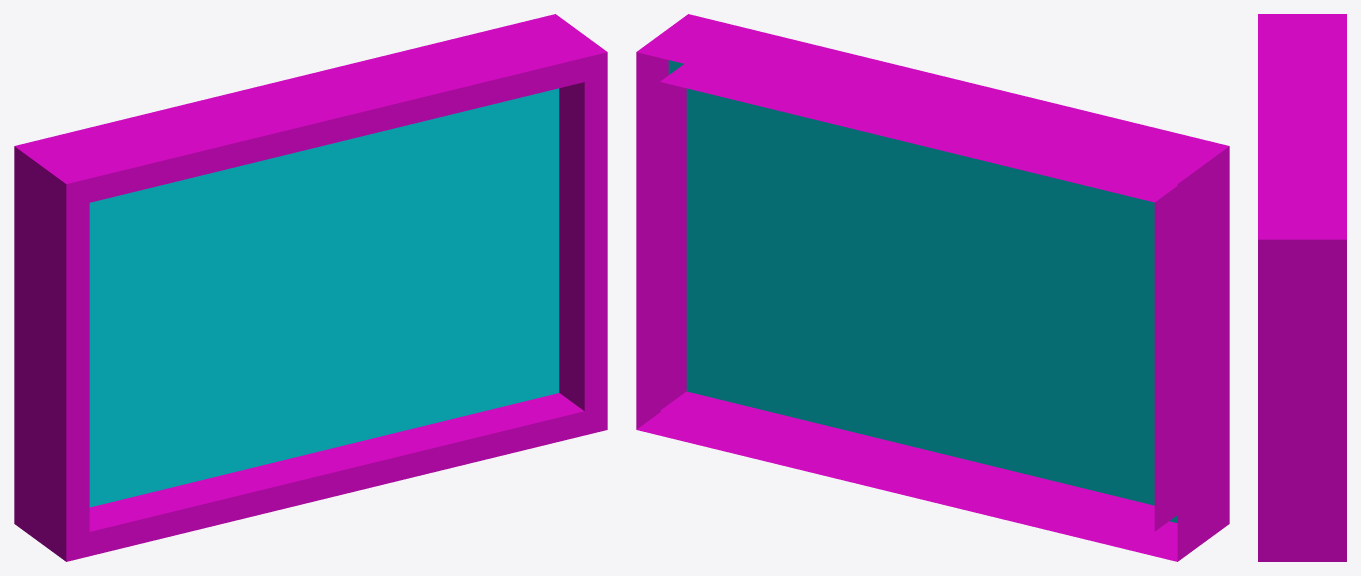
Rendered from Muurraam.fbx.
3 renders of one model, left to right at view 1: azimuth 30°, elevation 25°; view 2: azimuth 150°, elevation 25°; view 3: azimuth 270°, elevation 25°, orthographic. The views are drawn at different scales.
Parts seen in each view (by area): view 1: MuurRaam(Raam), MuurRaam; view 2: MuurRaam(Raam), MuurRaam; view 3: MuurRaam.
Part boxes in pixels (<box>): MuurRaam(Raam): <box>89,88,559,507</box>; MuurRaam: <box>14,14,607,561</box>; MuurRaam(Raam): <box>668,60,1177,523</box>; MuurRaam: <box>636,14,1229,561</box>; MuurRaam: <box>1258,14,1346,561</box>.
Size of the model in its own units: 120 by 80 by 20.
